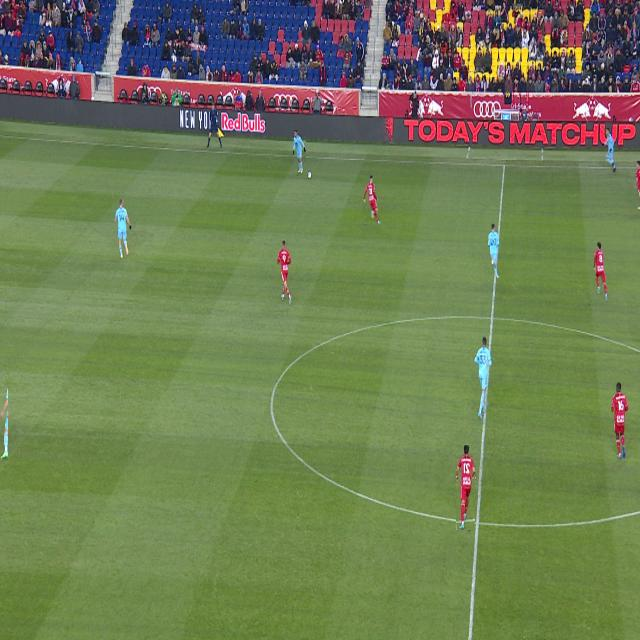football: (308, 171, 311, 179)
player: (457, 445, 475, 530), (474, 337, 492, 419), (611, 383, 628, 459), (115, 199, 132, 259), (277, 241, 292, 306), (364, 176, 381, 224), (594, 242, 607, 300), (488, 224, 500, 280), (0, 387, 8, 459), (293, 131, 306, 174), (604, 128, 616, 172), (634, 161, 640, 199), (639, 206, 639, 211)
